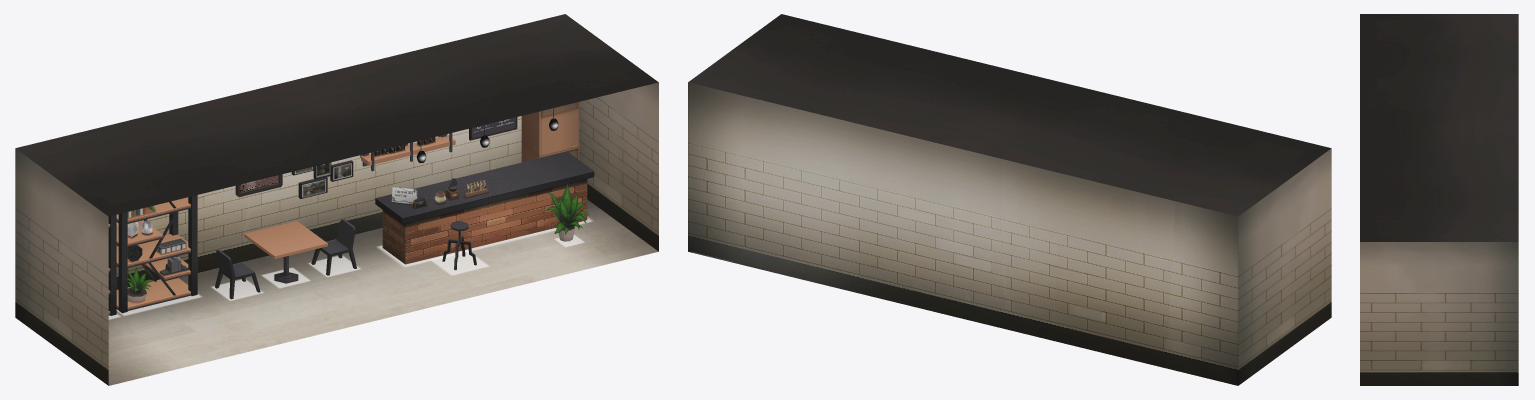
File: cafe.glb
The picture shows the model from 3 angles, left to right: view 1: azimuth 30°, elevation 25°; view 2: azimuth 150°, elevation 25°; view 3: azimuth 270°, elevation 25°; orthographic projection. The views are drawn at different scales.
Parts seen in each view (by area): view 1: ROOM_room, ROOM_floor, furni_cafe_bar_01, furni_cafe_shelf_01.001, furni_cafe_cupboard_01, furni_cafe_coffeetable_01, ROOM_LDoor, ROOM_RDoor, furni_cafe_framedwallartset_01, furni_cafe_bar_02, furni_cafe_floatingshelf_01, furni_cafe_pottedplant_02 (+10 smaller); view 2: ROOM_room, ROOM_LDoor; view 3: ROOM_room, ROOM_RDoor.
Boxes of the visible parts, left/top/right/bottom form: ROOM_room: left=15, top=14, right=658, bottom=385; ROOM_floor: left=108, top=199, right=658, bottom=385; furni_cafe_bar_01: left=375, top=151, right=594, bottom=264; furni_cafe_shelf_01.001: left=116, top=195, right=197, bottom=313; furni_cafe_cupboard_01: left=521, top=102, right=579, bottom=162; furni_cafe_coffeetable_01: left=244, top=221, right=327, bottom=283; ROOM_LDoor: left=75, top=285, right=94, bottom=375; ROOM_RDoor: left=626, top=151, right=644, bottom=241; furni_cafe_framedwallartset_01: left=291, top=160, right=353, bottom=198; furni_cafe_bar_02: left=391, top=178, right=488, bottom=208; furni_cafe_floatingshelf_01: left=360, top=133, right=455, bottom=171; furni_cafe_pottedplant_02: left=545, top=183, right=589, bottom=234; ROOM_room: left=688, top=14, right=1331, bottom=385; ROOM_LDoor: left=1298, top=251, right=1317, bottom=341; ROOM_room: left=1360, top=14, right=1518, bottom=385; ROOM_RDoor: left=1383, top=320, right=1415, bottom=385.
Bounding box in the file's own units: 7.49 × 2.2 × 2.23.
6 materials, 6 textured.
